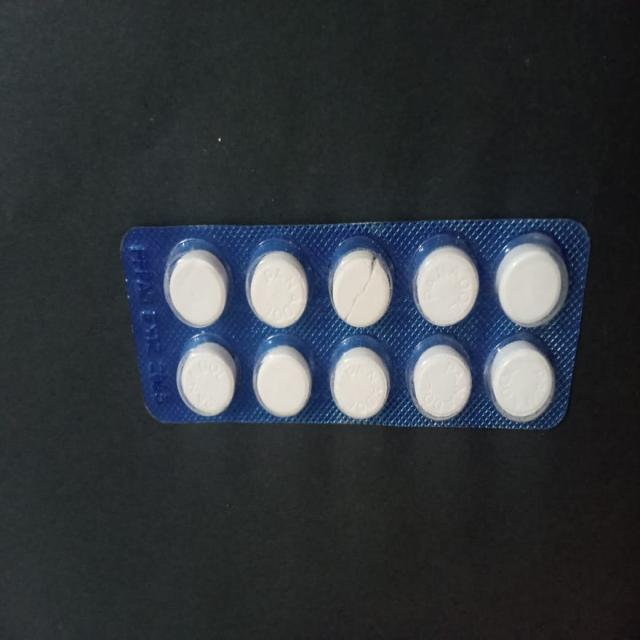defect: (326, 231, 398, 330)
